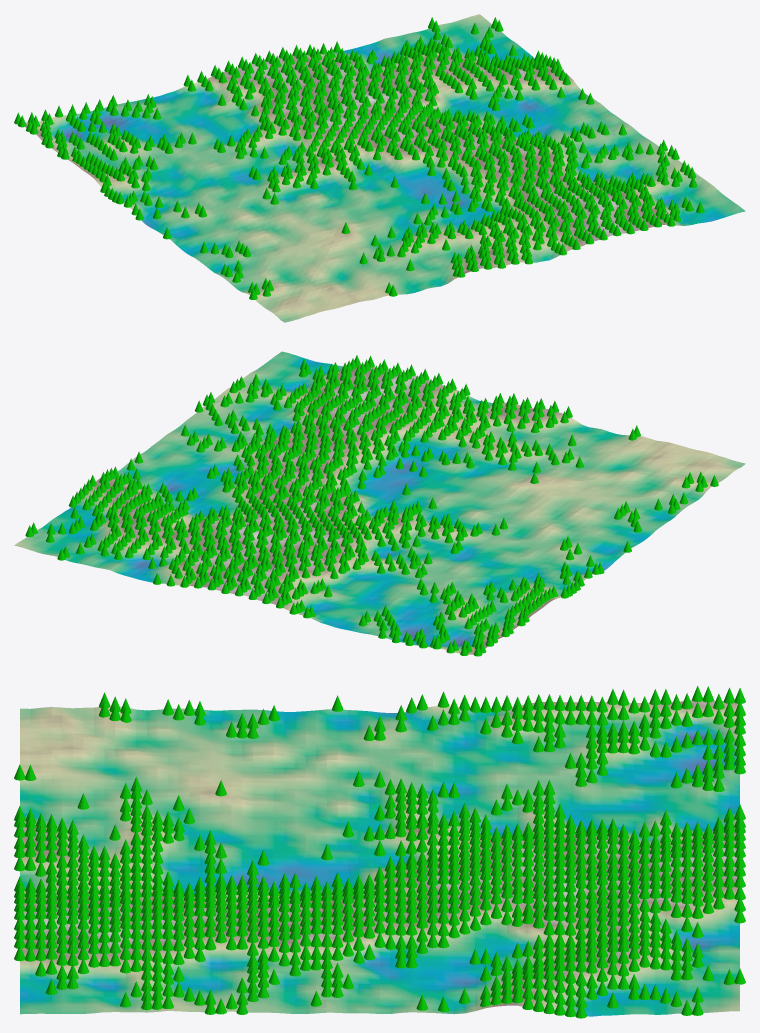
The model's file is 005186_with_tree.glb.
The picture shows the model from 3 angles, top to bottom: view 1: azimuth 30°, elevation 25°; view 2: azimuth 150°, elevation 25°; view 3: azimuth 270°, elevation 25°; orthographic projection. The views are drawn at different scales.
Parts seen in each view (by area): view 1: terrain, trees; view 2: terrain, trees; view 3: terrain, trees.
Boxes of the visible parts, x1,y1,x2,y2 form: terrain: (24, 14, 745, 322); trees: (14, 17, 704, 299); terrain: (14, 351, 745, 654); trees: (25, 355, 718, 656); terrain: (20, 700, 739, 1016); trees: (14, 686, 745, 1018).
Bounding box in the file's own units: 0.0186 × 0.000873 × 0.0186.
